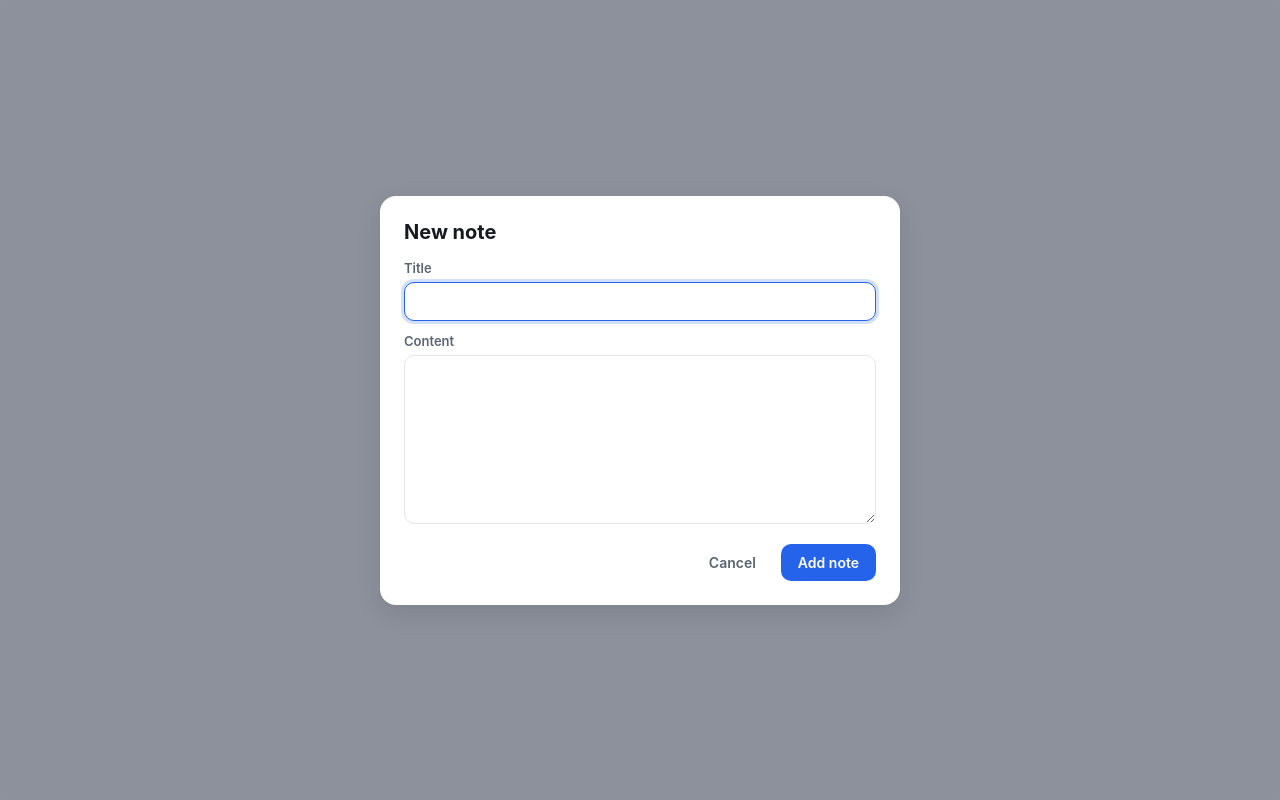
Scenario: NoteFormModal › requires a title
Click the button "Add note": point(828, 562) top-left (781, 544), bottom-right (876, 580)
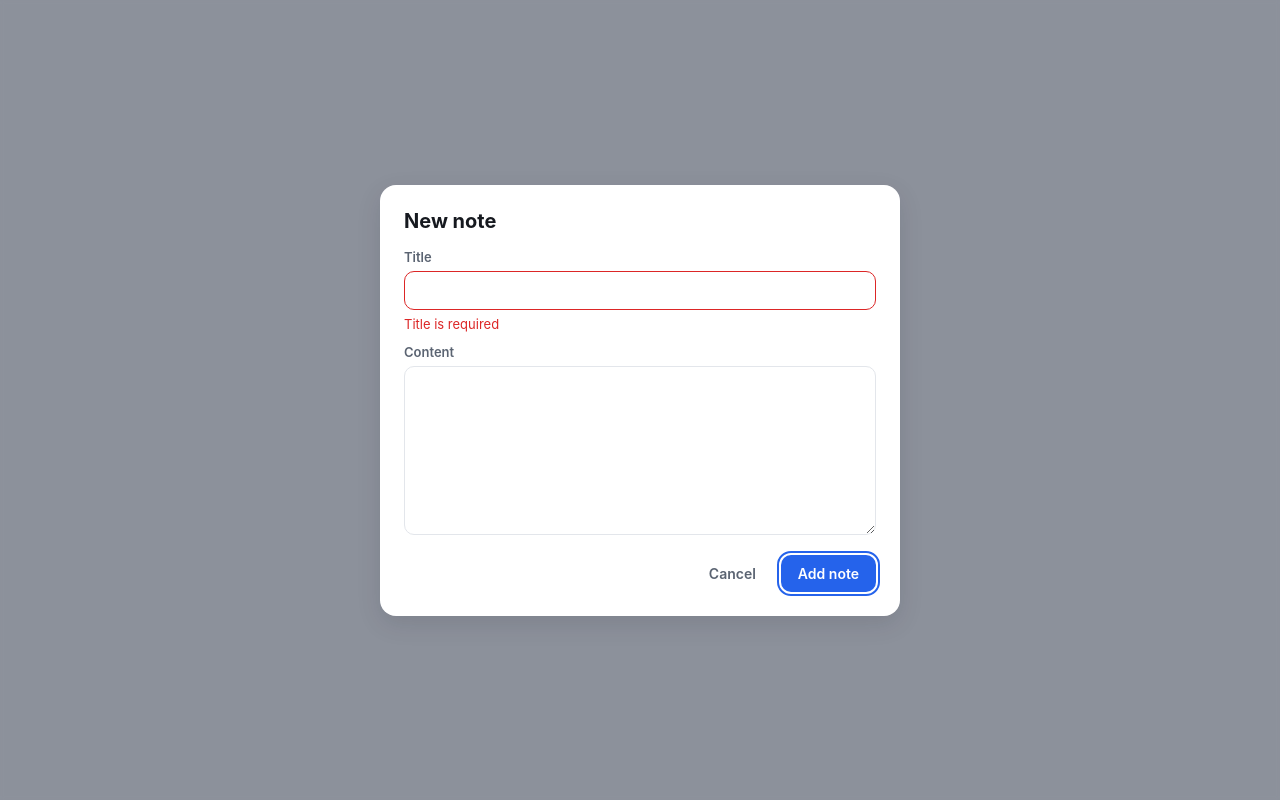
Result: the message reads "Title is required" at top-left (404, 316), bottom-right (499, 332)
